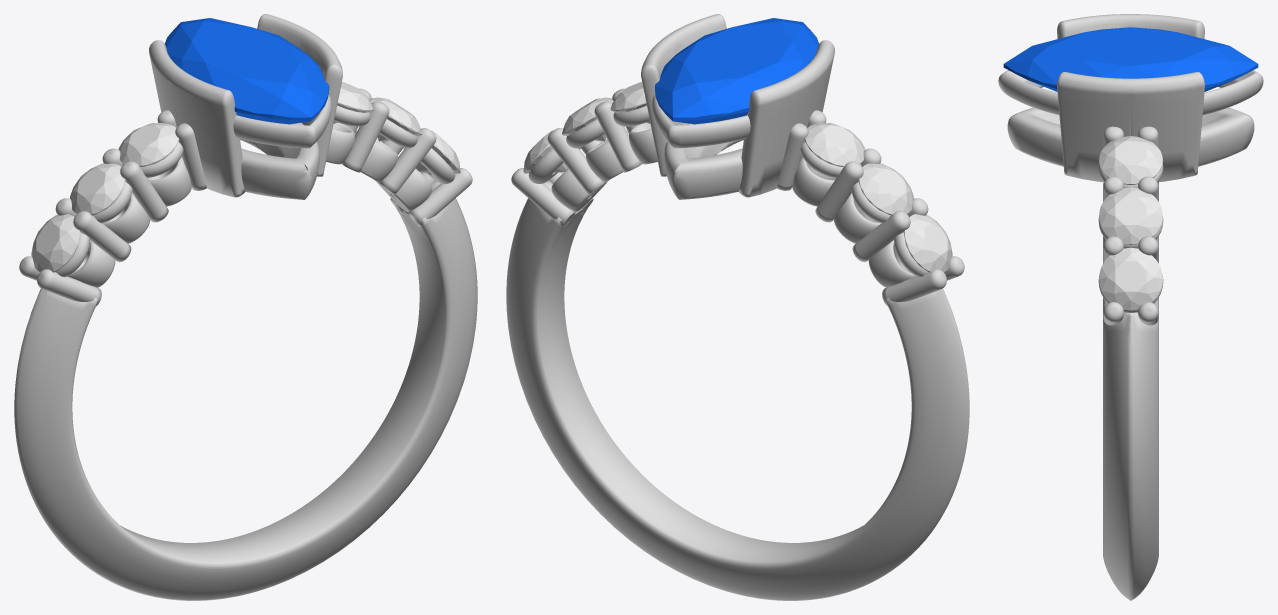
File: bluesapphire-marquise-platinum-halfmoonbezel-knifeedge-7stone.glb
The picture shows the model from 3 angles, left to right: view 1: azimuth 30°, elevation 25°; view 2: azimuth 150°, elevation 25°; view 3: azimuth 270°, elevation 25°; orthographic projection. The views are drawn at different scales.
Visible parts, largest first — view 1: metal.003, stone.002, side.002, side.013, side.014, side.016, side.017, side.015; view 2: metal.003, stone.002, side.002, side.013, side.014, side.016, side.017, side.015; view 3: metal.003, stone.002, side.015, side.016, side.017.
Boxes of the visible parts, left/top/right/bottom form: metal.003: left=14, top=14, right=477, bottom=600; stone.002: left=165, top=18, right=329, bottom=124; side.002: left=31, top=214, right=80, bottom=272; side.013: left=70, top=163, right=125, bottom=215; side.014: left=118, top=123, right=179, bottom=166; side.016: left=370, top=97, right=421, bottom=141; side.017: left=333, top=82, right=373, bottom=123; side.015: left=416, top=128, right=460, bottom=173; metal.003: left=506, top=14, right=969, bottom=600; stone.002: left=655, top=18, right=818, bottom=124; side.002: left=903, top=214, right=952, bottom=272; side.013: left=858, top=163, right=913, bottom=215; side.014: left=804, top=123, right=865, bottom=166; side.016: left=562, top=97, right=613, bottom=141; side.017: left=610, top=82, right=650, bottom=123; side.015: left=523, top=128, right=567, bottom=173; metal.003: left=998, top=14, right=1263, bottom=600; stone.002: left=1003, top=27, right=1258, bottom=91; side.015: left=1099, top=247, right=1162, bottom=310; side.016: left=1099, top=187, right=1162, bottom=244; side.017: left=1099, top=136, right=1162, bottom=184.
Size of the model in its own units: 20.5 by 22.93 by 10.4.
